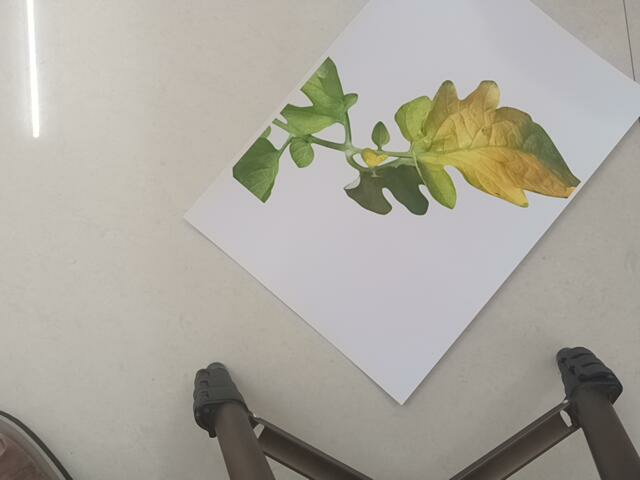Tomamto_Yellow_Disease: (222, 53, 588, 218)
